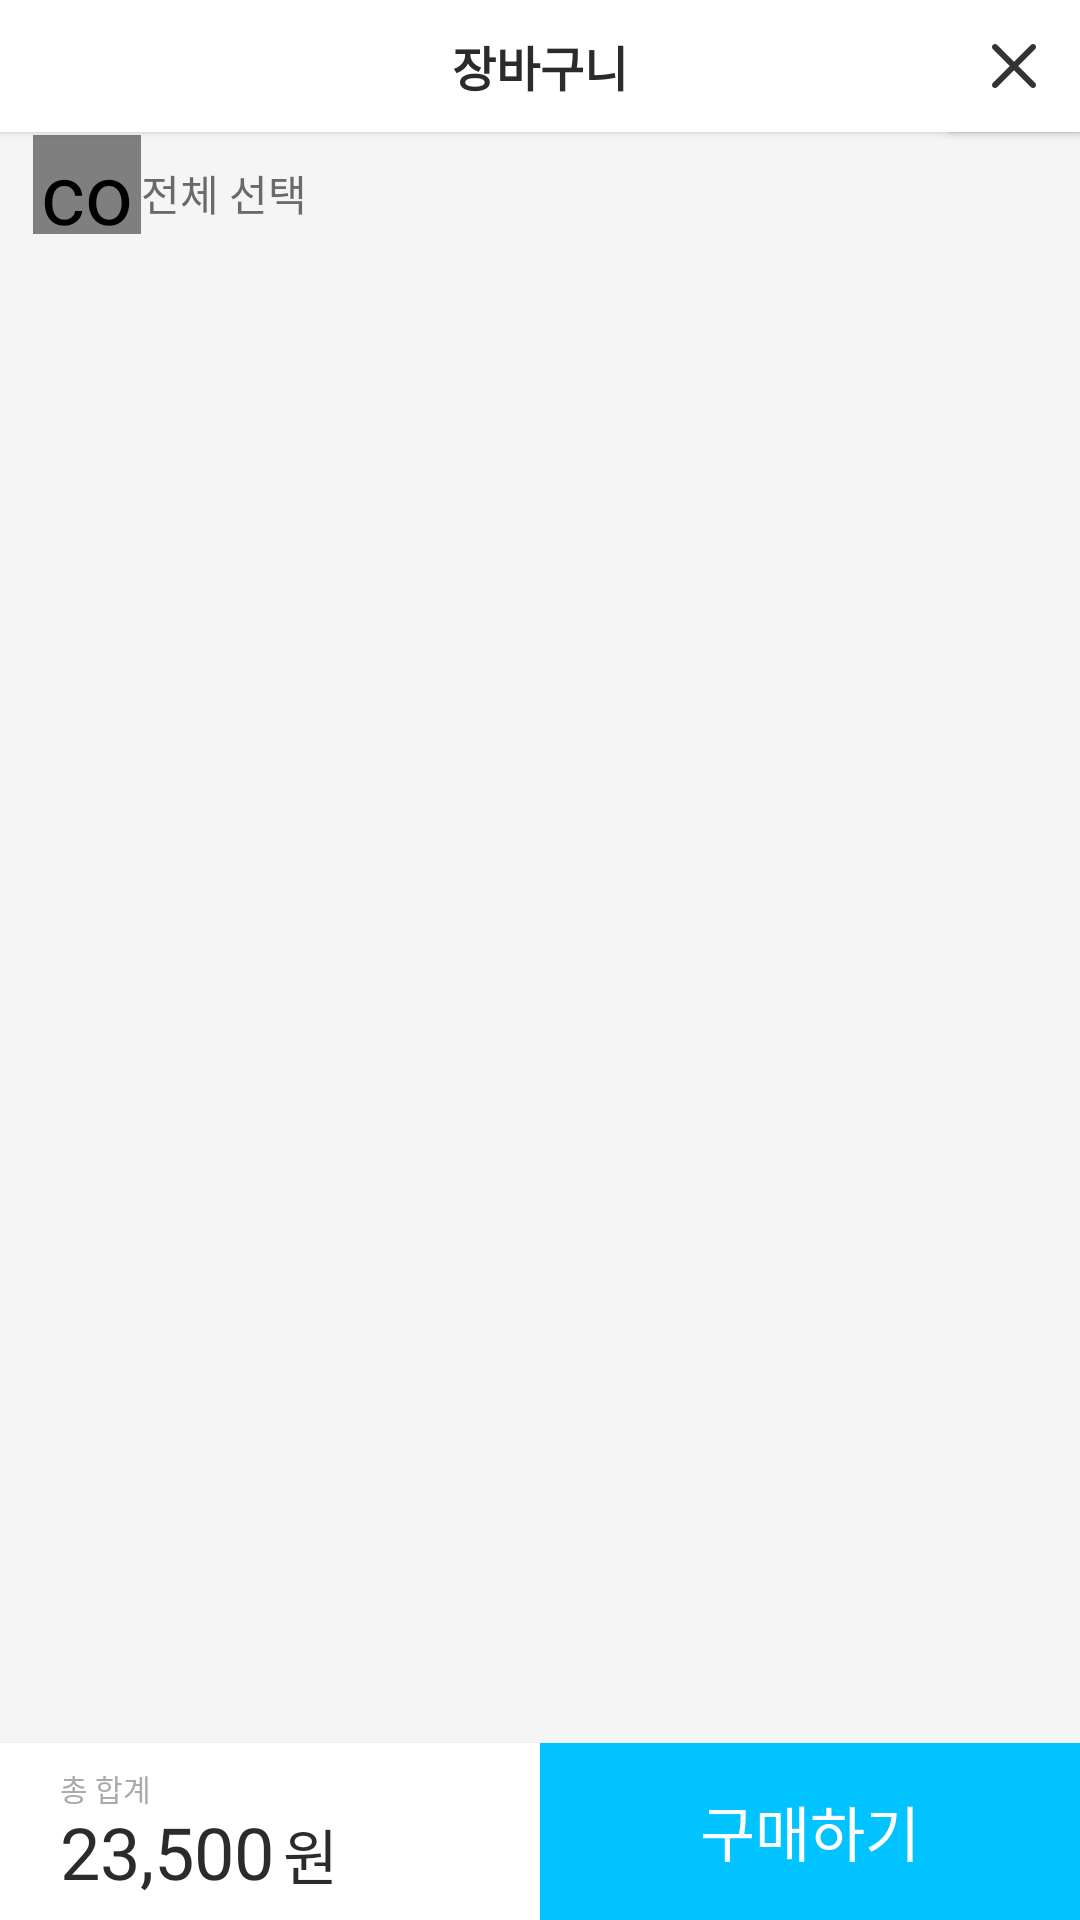

Where icons sit on this 1080w x 1920h app screen, as bbox=(x1, y1, x2, y2):
cancel: bbox=(992, 44, 1036, 88)
